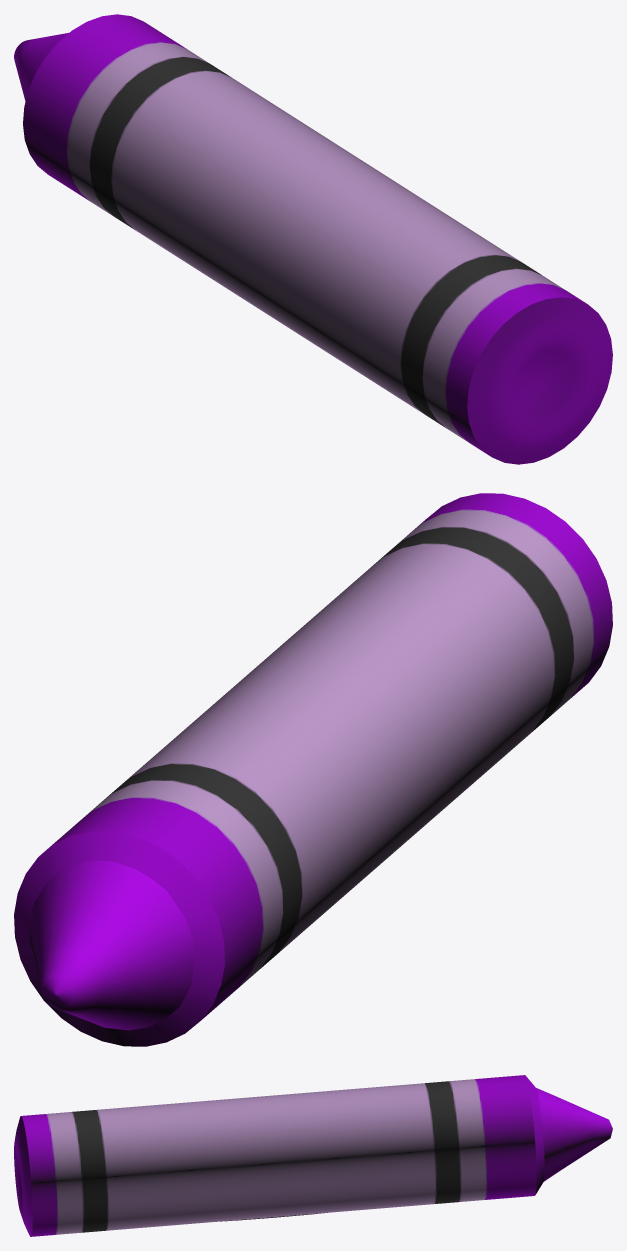
Rendered from purple.obj.
3 renders of one model, top to bottom at view 1: azimuth 30°, elevation 25°; view 2: azimuth 150°, elevation 25°; view 3: azimuth 270°, elevation 25°, orthographic. The views are drawn at different scales.
Parts seen in each view (by area): view 1: Cylinder001; view 2: Cylinder001; view 3: Cylinder001.
Part boxes in pixels (left/top/right/bottom): Cylinder001: left=14, top=14, right=612, bottom=464; Cylinder001: left=14, top=493, right=612, bottom=1046; Cylinder001: left=14, top=1075, right=612, bottom=1236.
Bounding box in the file's own units: 17.98 × 14.44 × 61.29.
Materials: 1 (1 with a texture image).
